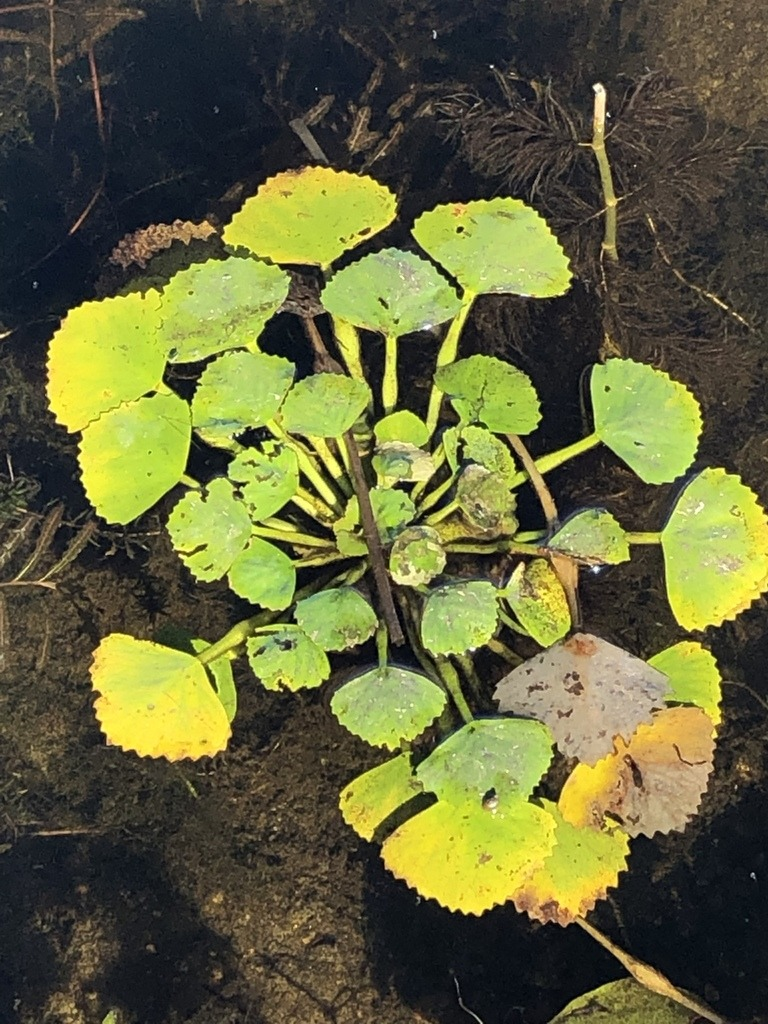water chestnut: (44, 161, 765, 930)
